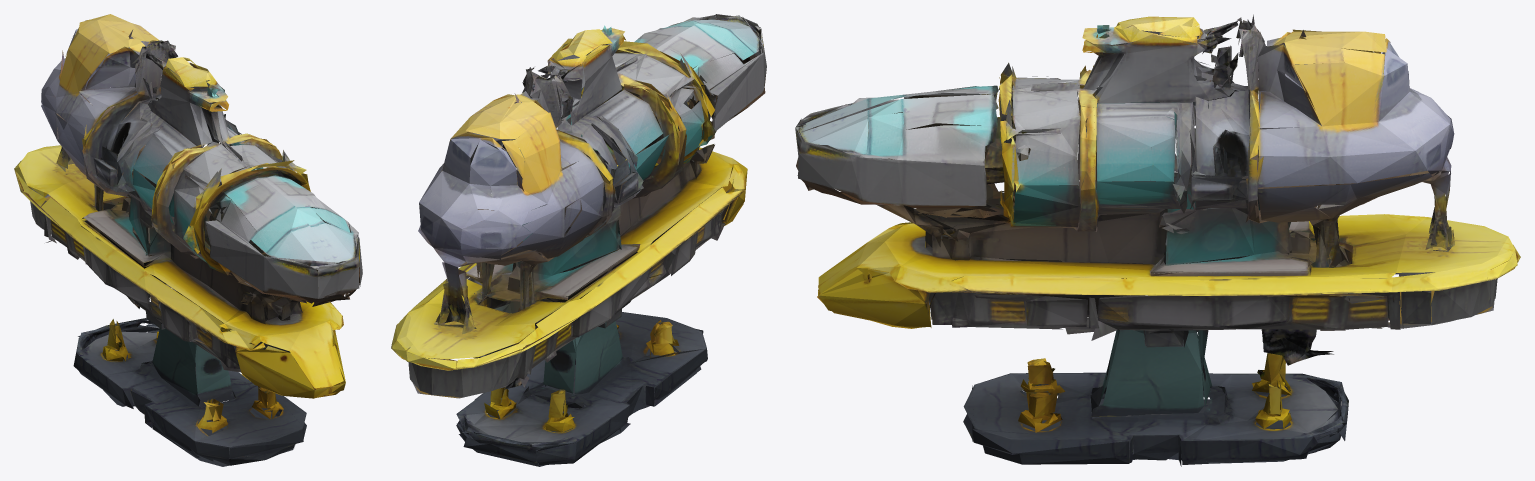
Rendered from submarine_dock_t2.fbx.
3 renders of one model, left to right at view 1: azimuth 30°, elevation 25°; view 2: azimuth 150°, elevation 25°; view 3: azimuth 270°, elevation 25°, orthographic. The views are drawn at different scales.
Parts seen in each view (by area): view 1: submarine_dock_t2; view 2: submarine_dock_t2; view 3: submarine_dock_t2.
Part boxes in pixels (box(x1,y1,x2,y2)): submarine_dock_t2: box(14, 14, 362, 466); submarine_dock_t2: box(391, 14, 766, 466); submarine_dock_t2: box(795, 14, 1520, 466).
Size of the model in its own units: 1.25 by 2.88 by 4.57.
Materials: 1 (1 with a texture image).
